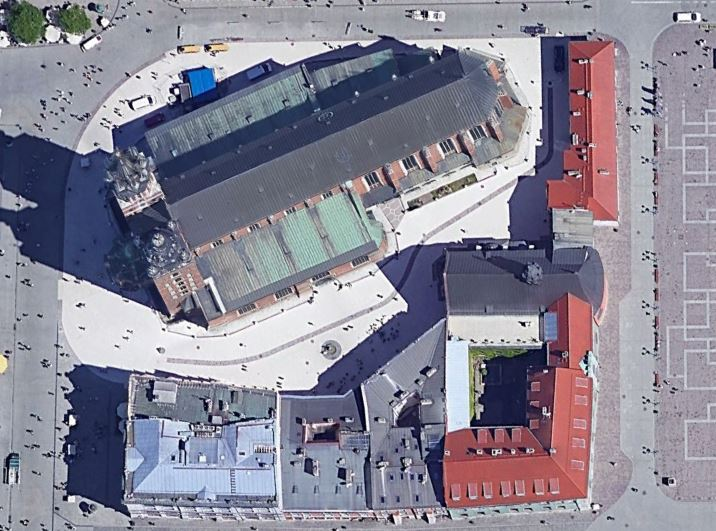block of flats: (118, 240, 618, 526), (542, 30, 625, 245)
church: (93, 32, 534, 335)
